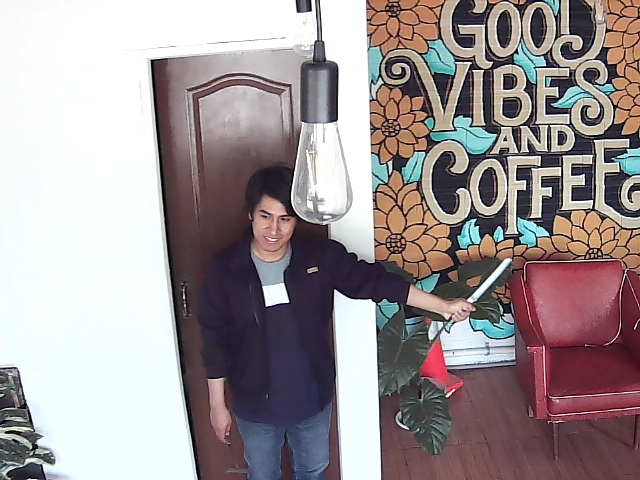cuchillo: (441, 251, 517, 334)
